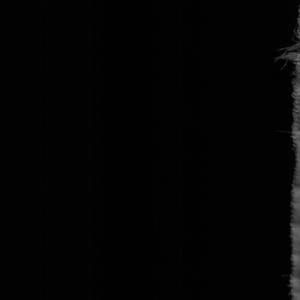Damage: (271, 1, 300, 300)
